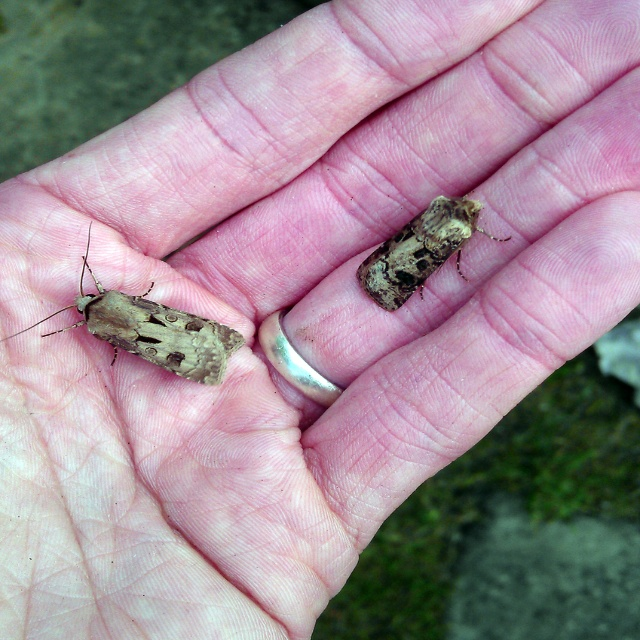Moths and butterflies: (0, 218, 243, 389), (360, 194, 515, 316)
